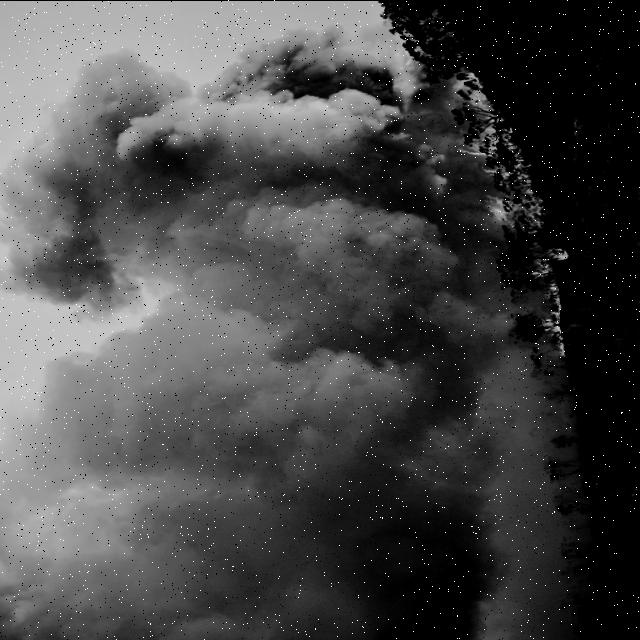api: (482, 148, 548, 228), (452, 65, 495, 137), (533, 247, 572, 282), (546, 302, 565, 346)
asap: (17, 40, 433, 632), (473, 356, 577, 640), (426, 138, 472, 640)
